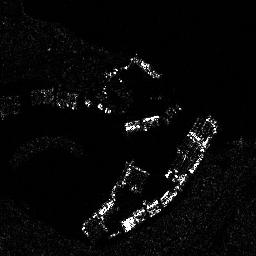ship: (131, 56, 161, 78), (123, 114, 158, 132)
